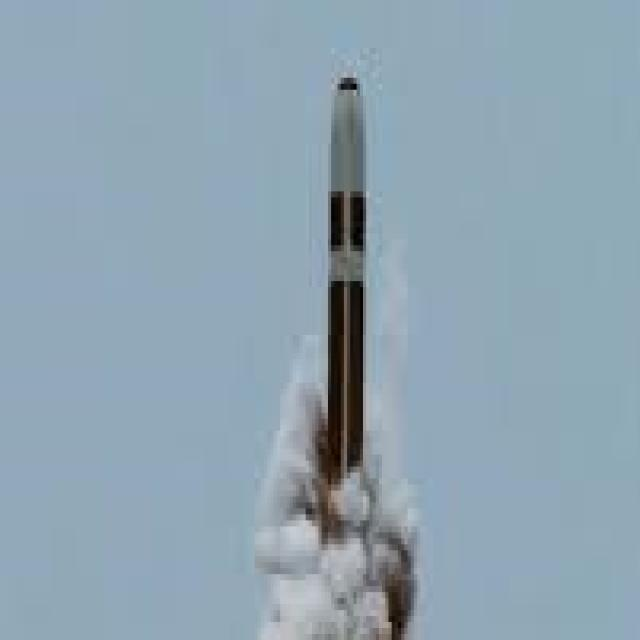missile: (296, 64, 406, 514)
